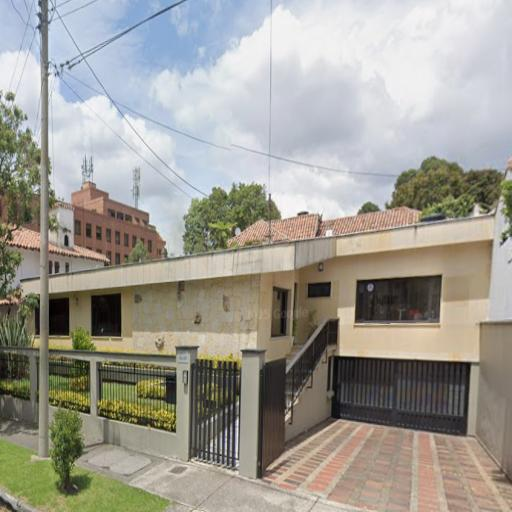Casa: (49, 205, 506, 486), (67, 179, 172, 270)
postes: (35, 0, 57, 459)
